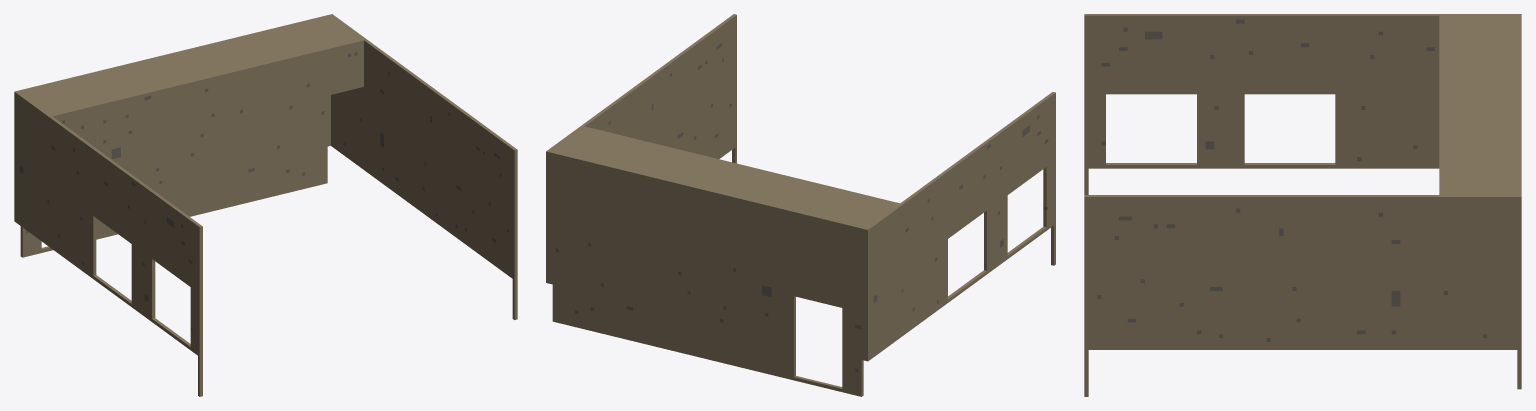
Rendered from Walls.obj.
The picture shows the model from 3 angles, left to right: view 1: azimuth 30°, elevation 25°; view 2: azimuth 150°, elevation 25°; view 3: azimuth 270°, elevation 25°; orthographic projection. The views are drawn at different scales.
Bounding box in the file's own units: 10 × 5.1 × 10.1.
1 material, 1 textured.
